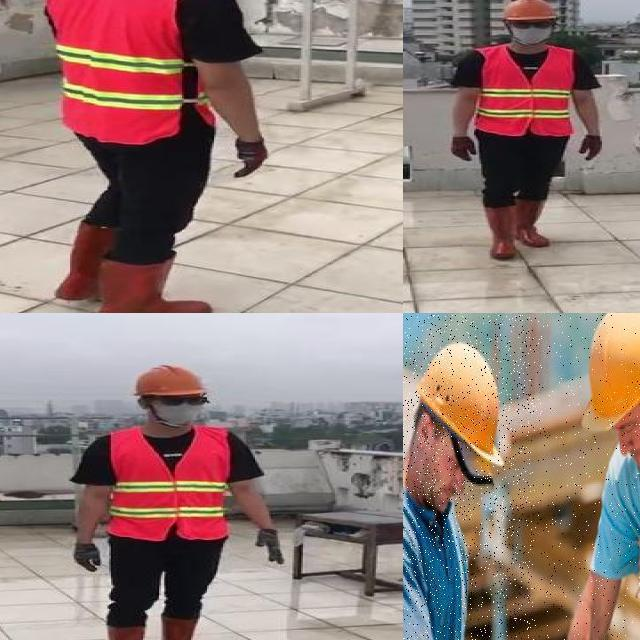No_Ear-Protection: (413, 410, 438, 449)
boots: (58, 223, 148, 305), (96, 252, 215, 313), (480, 204, 520, 261), (516, 196, 550, 245), (157, 616, 217, 640), (102, 623, 148, 640)
face_mask: (150, 393, 211, 427), (505, 16, 559, 46)
glasses: (157, 392, 211, 408), (508, 17, 556, 32)
hand_glove: (234, 138, 269, 178), (253, 529, 287, 564), (72, 542, 102, 572), (449, 136, 478, 162), (580, 136, 604, 161)
head_helmet: (407, 333, 528, 472), (569, 313, 640, 439), (137, 364, 213, 400), (499, 0, 560, 22)
person: (34, 0, 277, 313), (59, 367, 295, 640), (403, 315, 539, 640), (444, 0, 606, 264), (534, 313, 640, 640)
vest: (45, 0, 208, 142), (106, 427, 230, 541), (478, 43, 576, 138)
